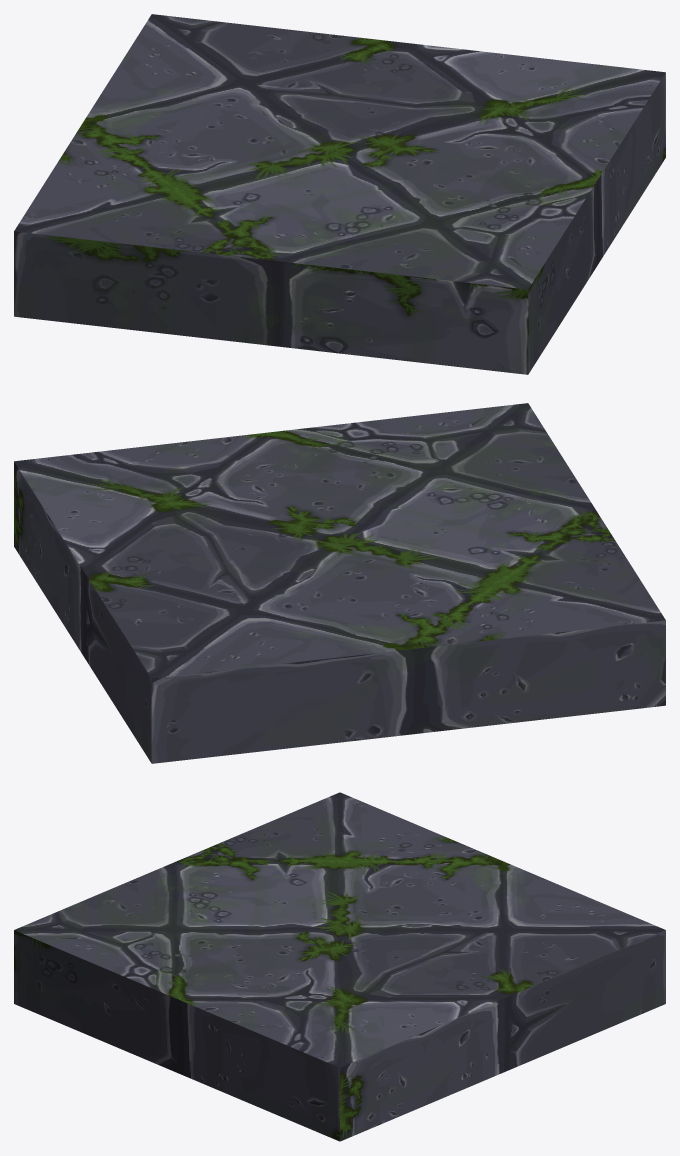
The model's file is MOD_Floor_01_E_angle_med_2.fbx.
3 views of the same model, one above another, from view 1: azimuth 30°, elevation 25°; view 2: azimuth 150°, elevation 25°; view 3: azimuth 270°, elevation 25° (orthographic). The views are drawn at different scales.
Visible parts, largest first — view 1: MOD_Floor_01_E_angle_med_2; view 2: MOD_Floor_01_E_angle_med_2; view 3: MOD_Floor_01_E_angle_med_2.
Part boxes in pixels (x1=…): MOD_Floor_01_E_angle_med_2: x1=14, y1=14, x2=665, y2=374; MOD_Floor_01_E_angle_med_2: x1=14, y1=403, x2=665, y2=763; MOD_Floor_01_E_angle_med_2: x1=14, y1=792, x2=665, y2=1141.
Bounding box in the file's own units: 400 × 50 × 400.
